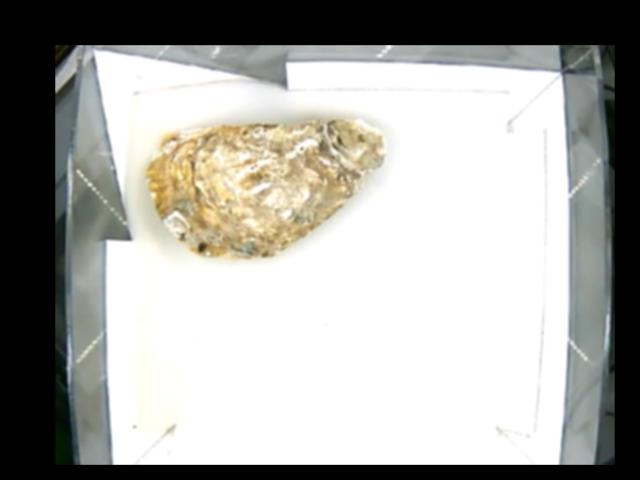Shell: (146, 117, 387, 261)
